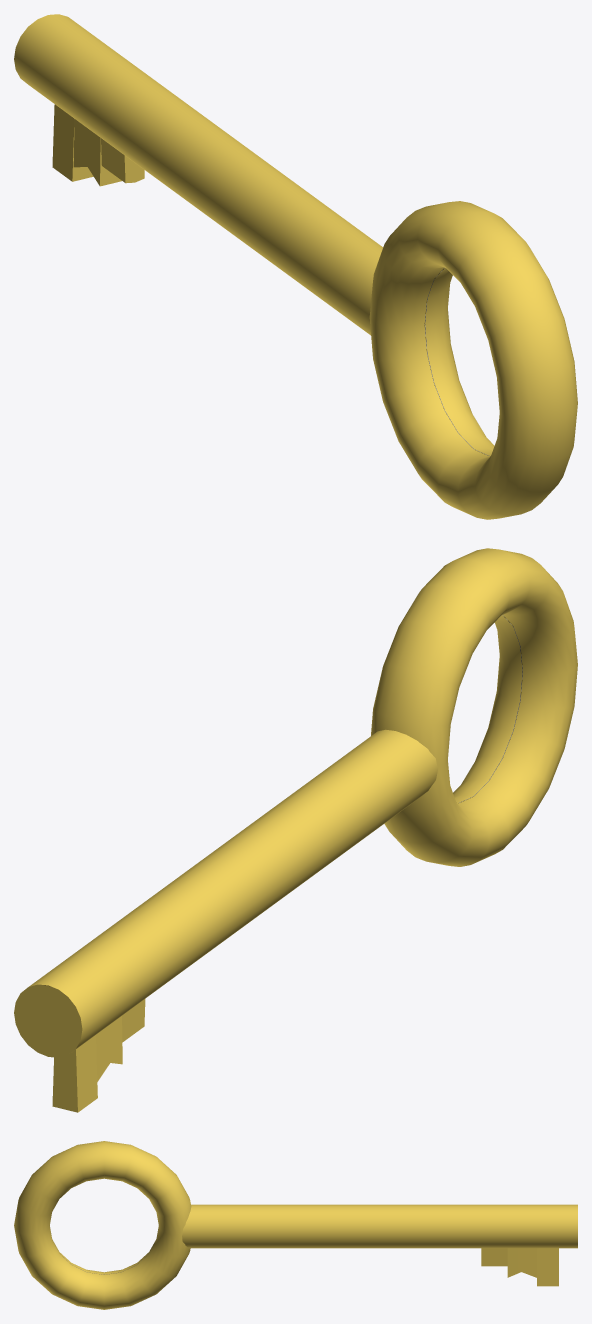
File: key.obj
3 renders of one model, top to bottom at view 1: azimuth 30°, elevation 25°; view 2: azimuth 150°, elevation 25°; view 3: azimuth 270°, elevation 25°, orthographic. The views are drawn at different scales.
Parts seen in each view (by area): view 1: pTorus2; view 2: pTorus2; view 3: pTorus2.
Boxes of the visible parts, x1,y1,x2,y2 form: pTorus2: [14, 14, 577, 519]; pTorus2: [14, 548, 577, 1112]; pTorus2: [14, 1141, 577, 1309].
Size of the model in its own units: 0.5401 by 2.11 by 6.6.
Materials: 2 (2 with a texture image).
